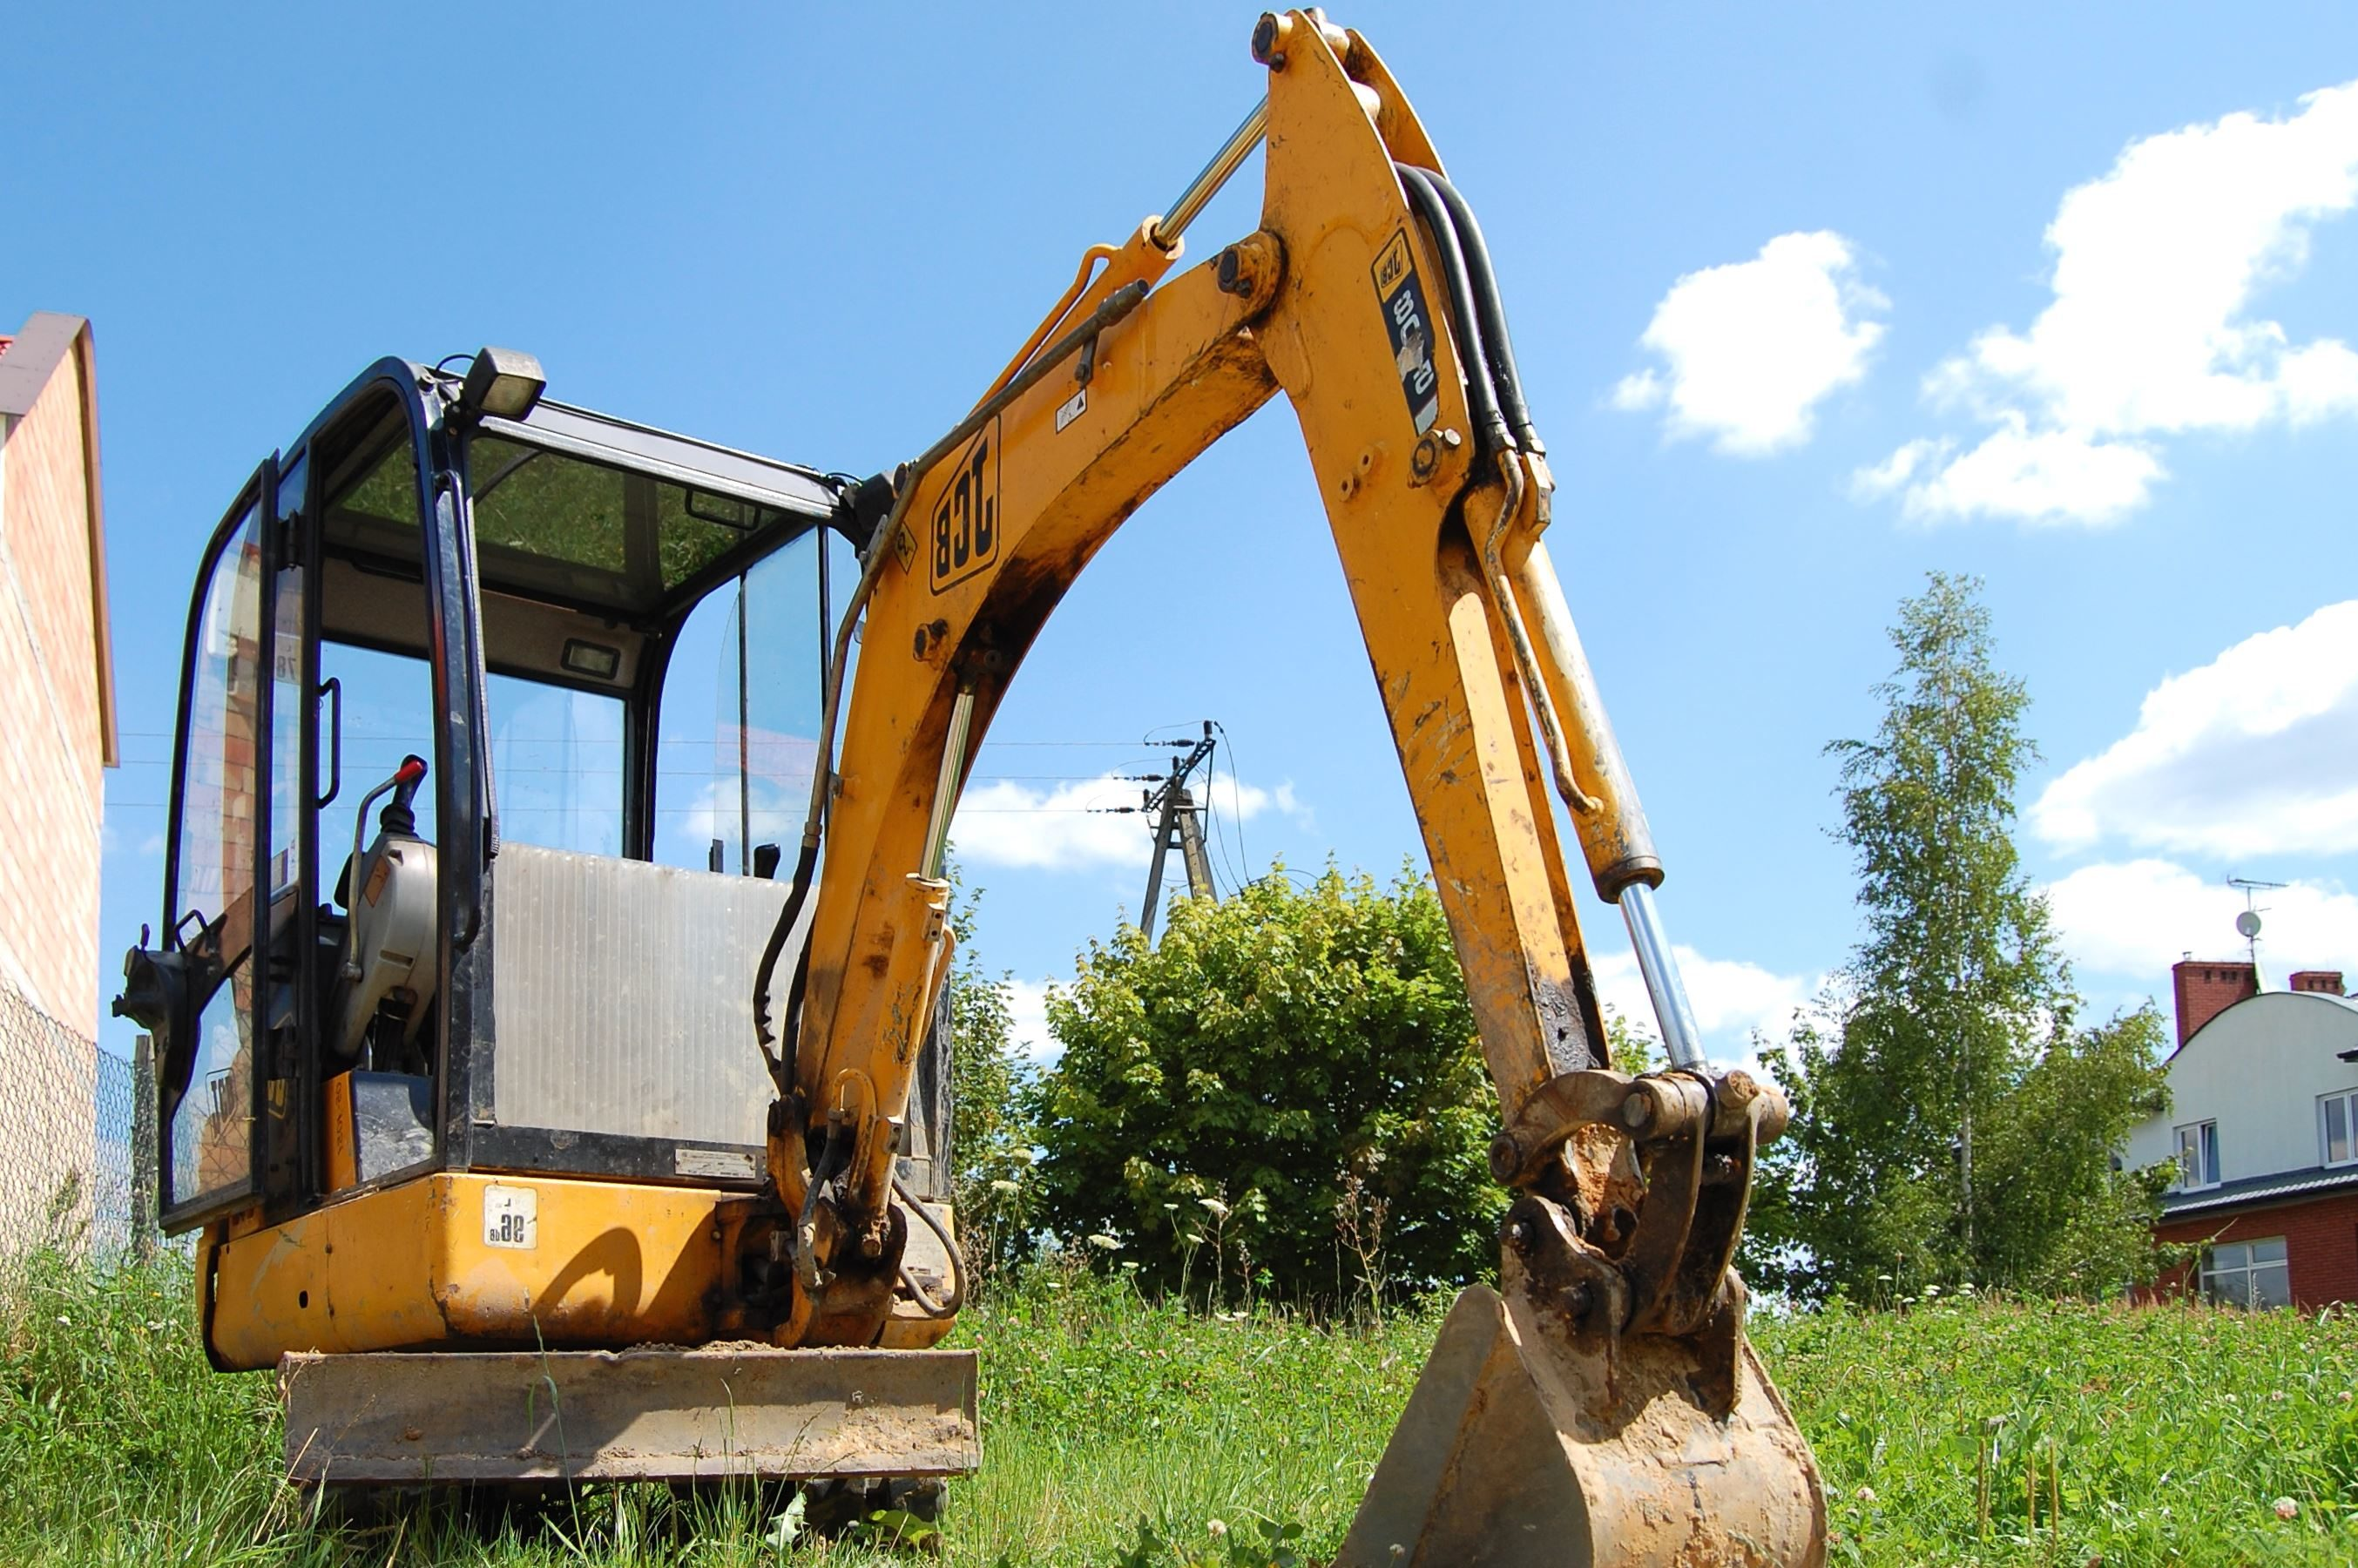excavator: (117, 0, 1847, 1550)
